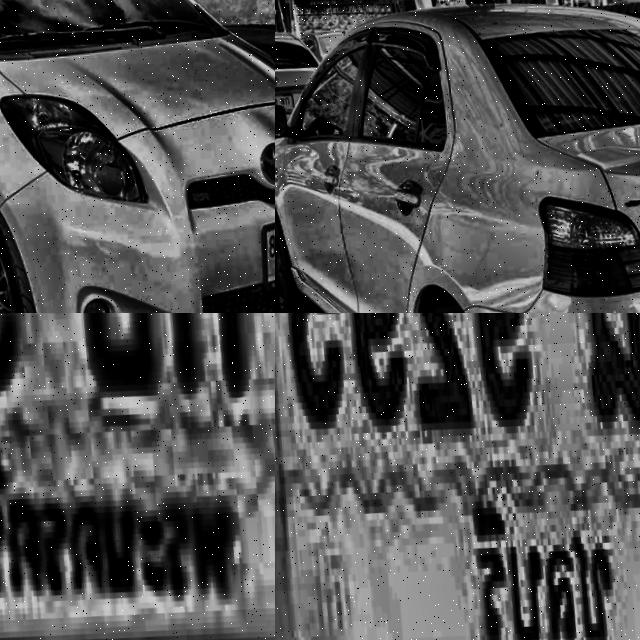license-plate: (275, 313, 640, 640), (0, 313, 275, 640), (233, 206, 275, 310)
